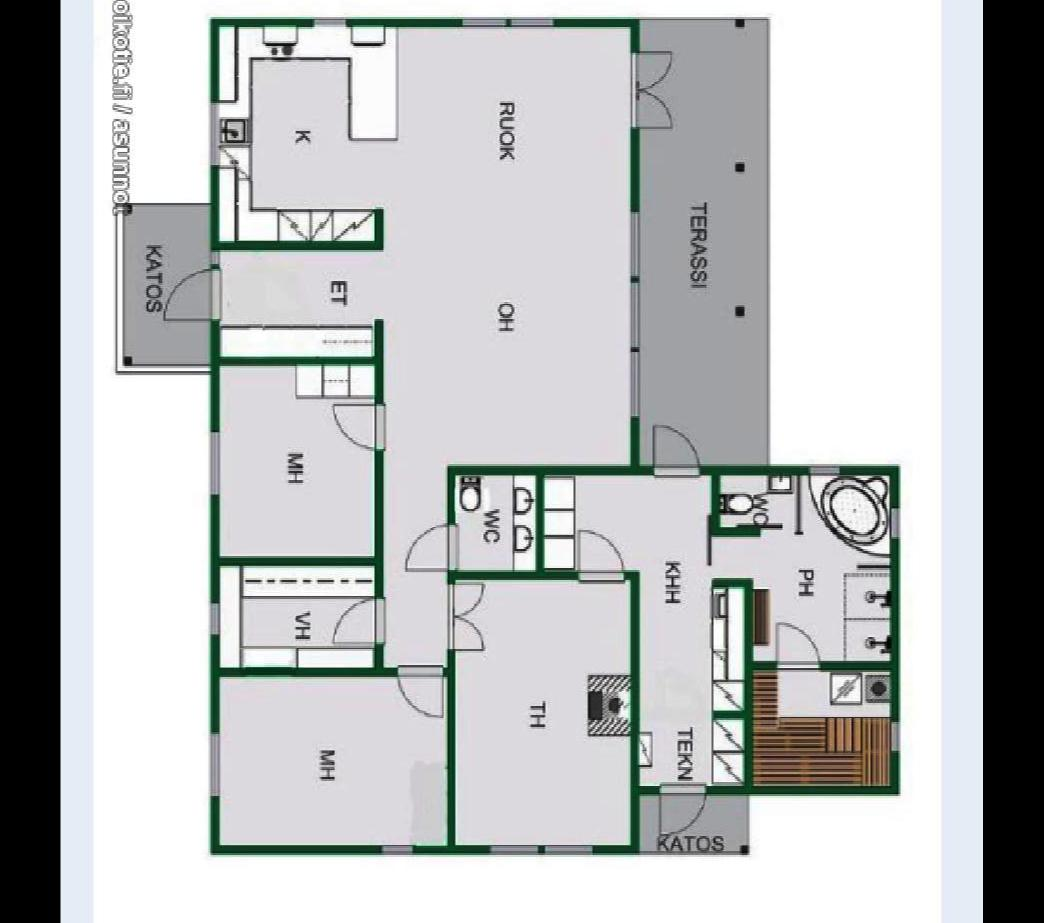door: (161, 264, 220, 323), (400, 519, 459, 577), (647, 420, 702, 480), (574, 528, 628, 584), (654, 780, 708, 835), (330, 595, 386, 648), (330, 400, 386, 448), (396, 660, 442, 718), (776, 618, 825, 672), (626, 86, 677, 136), (626, 45, 678, 90), (443, 612, 483, 656), (444, 577, 486, 612)
window: (204, 420, 225, 502), (625, 274, 646, 352), (624, 344, 645, 422), (484, 839, 547, 862), (206, 724, 224, 802), (206, 93, 223, 171), (452, 12, 514, 32), (504, 10, 560, 32), (627, 201, 642, 282), (537, 840, 604, 858), (203, 595, 226, 641), (306, 10, 354, 32), (376, 838, 423, 859)
